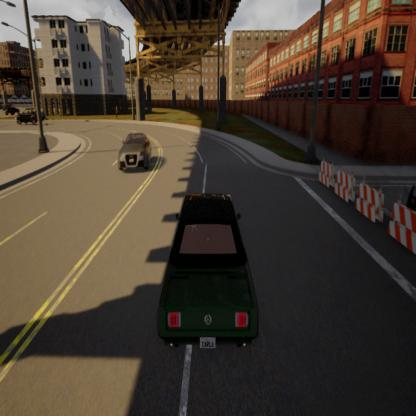Cars: (150, 172, 268, 364), (117, 129, 156, 177), (16, 102, 47, 130), (4, 101, 20, 117)
Pedestrian: (112, 102, 120, 122)
